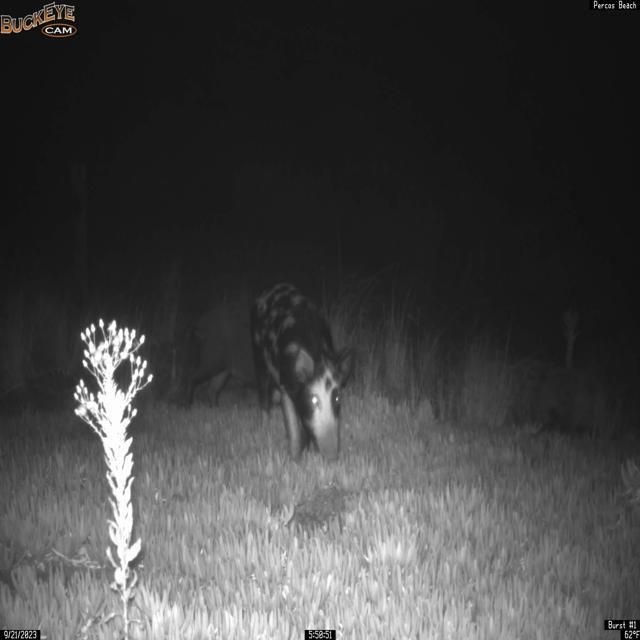pig: (249, 280, 356, 464)
